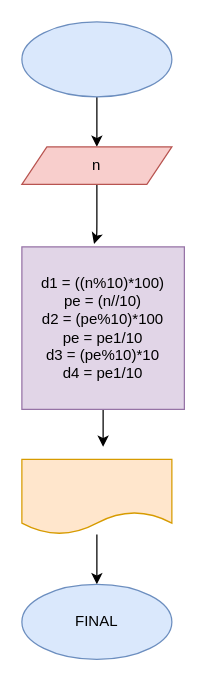
Some shapes in this 206 by 681 pixel diagram are drawn without their labels. The box of each missing label's shape, as (x1, y1, x2, y2) in pixels:
INICIO: (21, 21, 172, 97)
ni: (21, 458, 172, 534)
